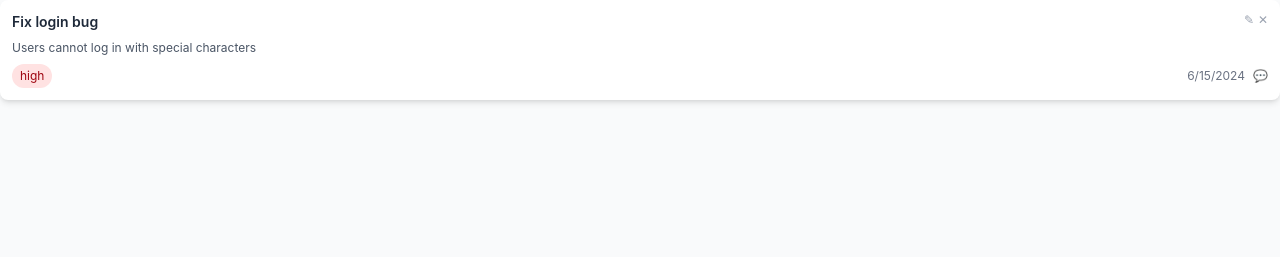
TaskCard › edit mode › cancels edit mode on Cancel click
Click the button titled "Edit task" at (1249, 20), box top-left (1244, 12), bottom-right (1254, 28)
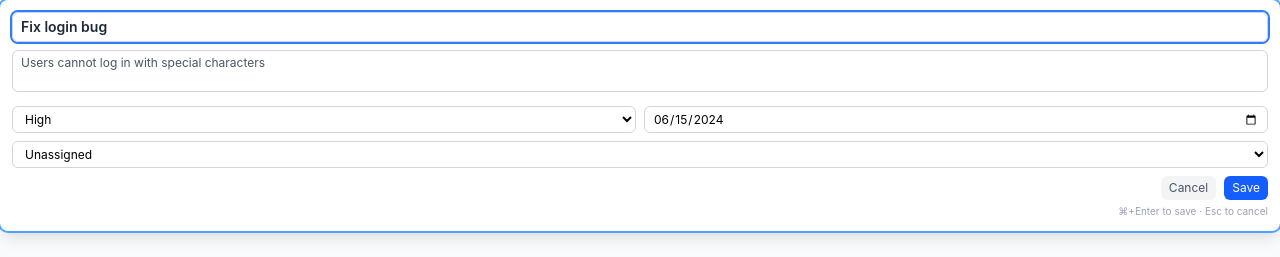
Click the button "Cancel" at (1189, 188), box top-left (1161, 176), bottom-right (1216, 200)
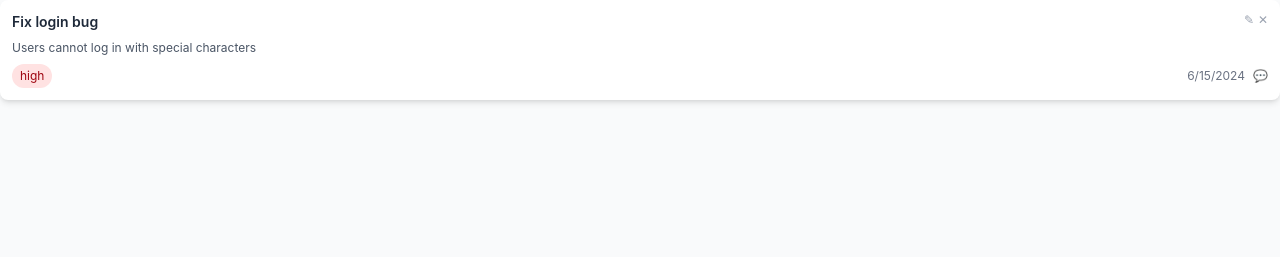
Check: the link "Fix login bug" is shown, box top-left (12, 12), bottom-right (98, 32)
